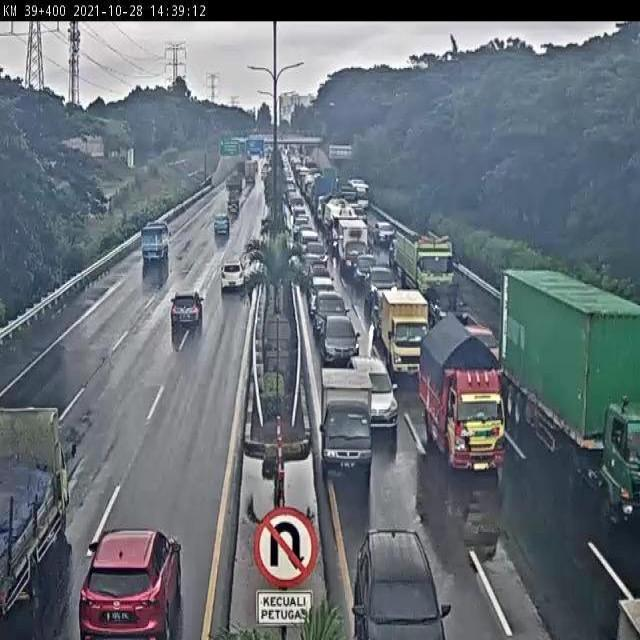car: (64, 524, 185, 639), (349, 525, 446, 639), (349, 352, 402, 431), (312, 292, 352, 343), (323, 312, 358, 357), (367, 267, 401, 308), (168, 291, 206, 325), (220, 256, 249, 295), (313, 276, 345, 303), (359, 255, 376, 281), (213, 214, 230, 238)
truck: (505, 271, 640, 536), (0, 397, 69, 624), (423, 319, 503, 468), (318, 361, 376, 476), (396, 233, 458, 324), (383, 290, 431, 378), (140, 217, 170, 264)
